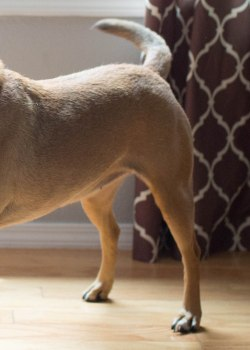tail: (90, 19, 179, 85)
